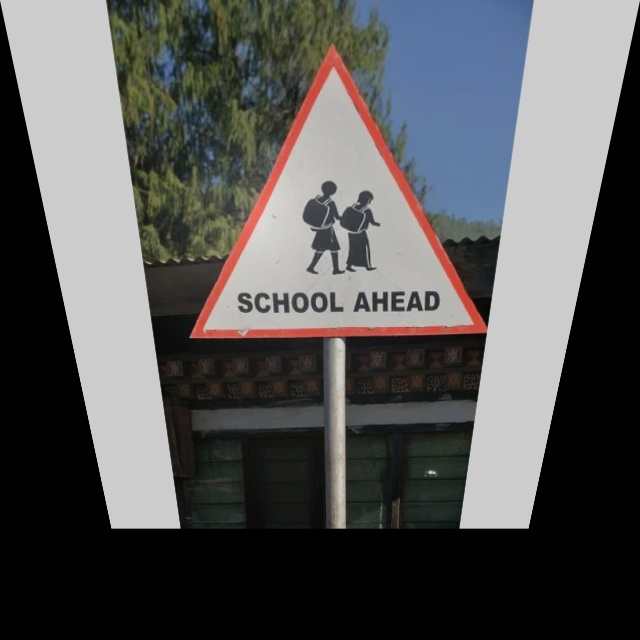School_Ahead: (171, 58, 505, 346)
